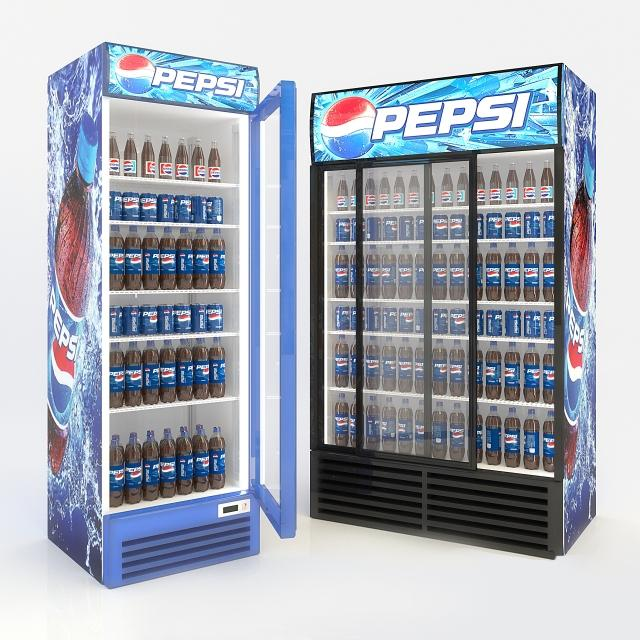Cooling-Display: (29, 34, 297, 618), (307, 56, 621, 550)
